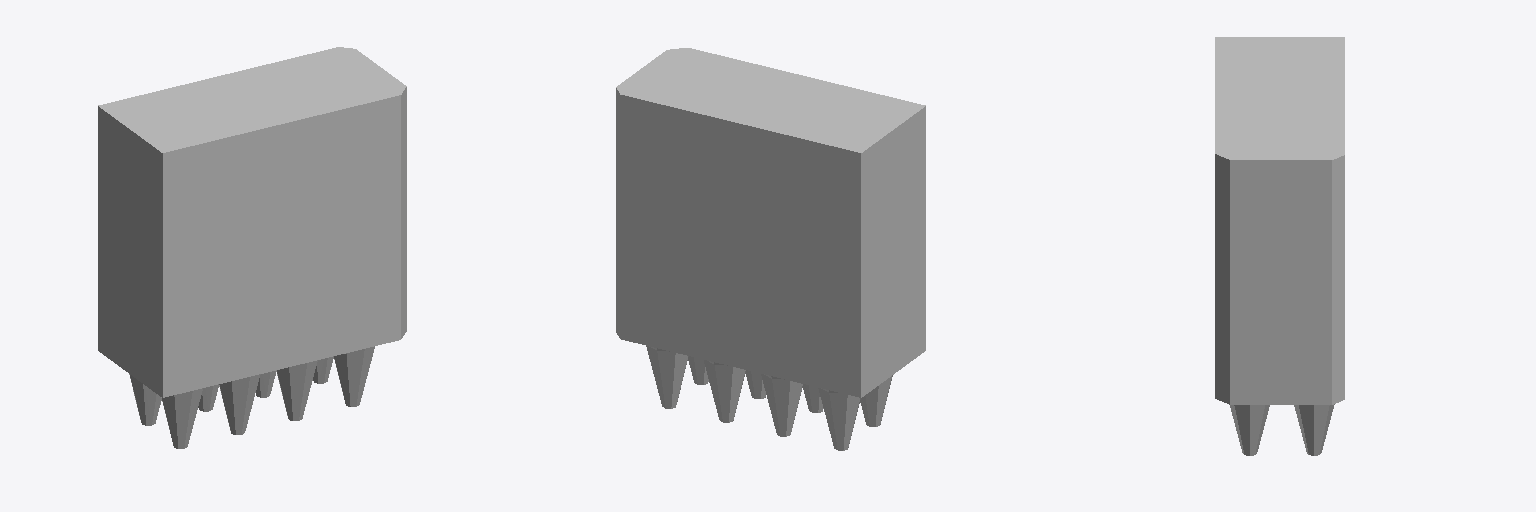
Rendered from rocket.obj.
3 views of the same model, side by side, from view 1: azimuth 30°, elevation 25°; view 2: azimuth 150°, elevation 25°; view 3: azimuth 270°, elevation 25° (orthographic).
Parts seen in each view (by area): view 1: rocket_rockets; view 2: rocket_rockets; view 3: rocket_rockets.
Part boxes in pixels (x1,y1,x2,y2): rocket_rockets: (98, 47, 406, 448); rocket_rockets: (616, 48, 925, 450); rocket_rockets: (1215, 37, 1344, 455).
Size of the model in its own units: 0.9629 by 1.15 by 0.4304.